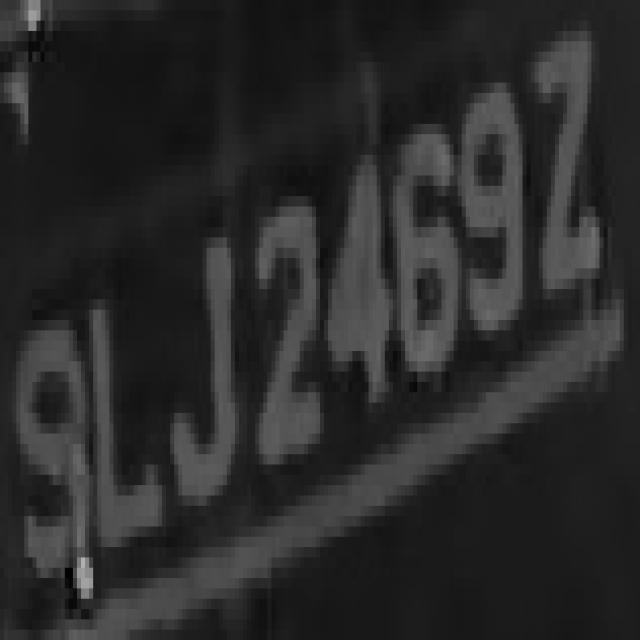2: (231, 165, 324, 496)
4: (304, 93, 401, 423)
6: (385, 82, 462, 413)
9: (449, 52, 526, 382)
J: (146, 206, 243, 526)
L: (77, 279, 162, 578)
S: (0, 4, 1, 10)
Z: (510, 10, 608, 320)
